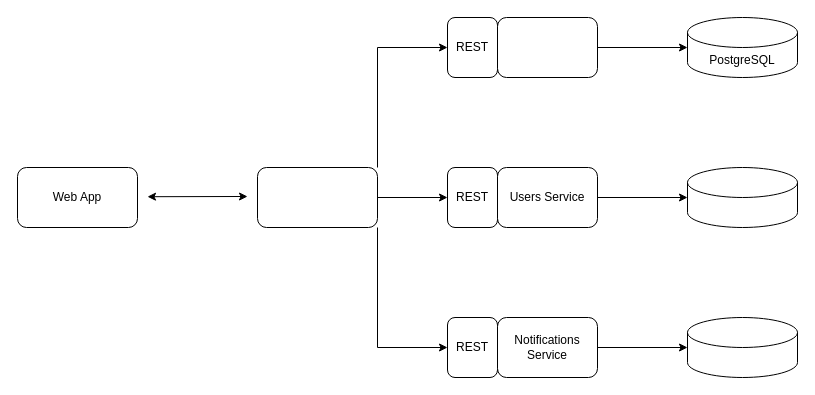
The diagram is 815 pixels wide and 395 high, and some of its shapes have lost their labels. Here are the shapes that lost their labels. From the top down, the box of each, then its label:
(496, 16, 598, 78): Blog Service
(256, 166, 378, 228): Web App API Gateway
(686, 166, 798, 228): MongoDB
(686, 316, 798, 378): RabbitMQ
